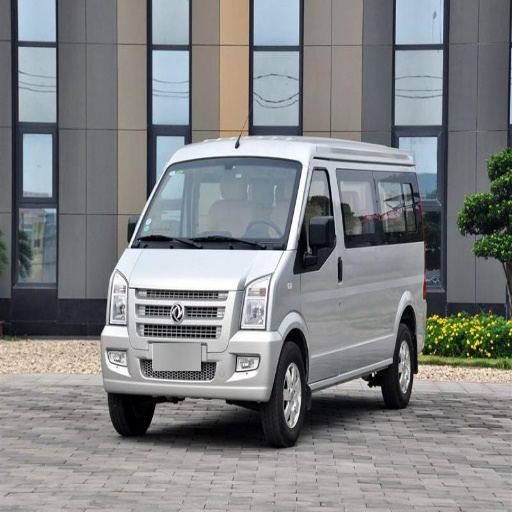front_bumper: (104, 288, 283, 401)
front_glass: (133, 158, 302, 249)
front_left_door: (301, 166, 364, 380)
trunk: (376, 247, 424, 318)
